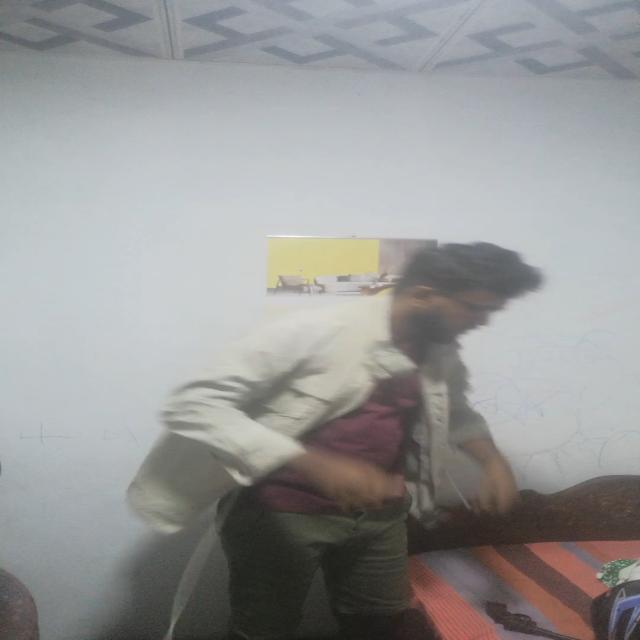Jacket_Wearer: (130, 296, 541, 538)
Person: (164, 236, 640, 640)
